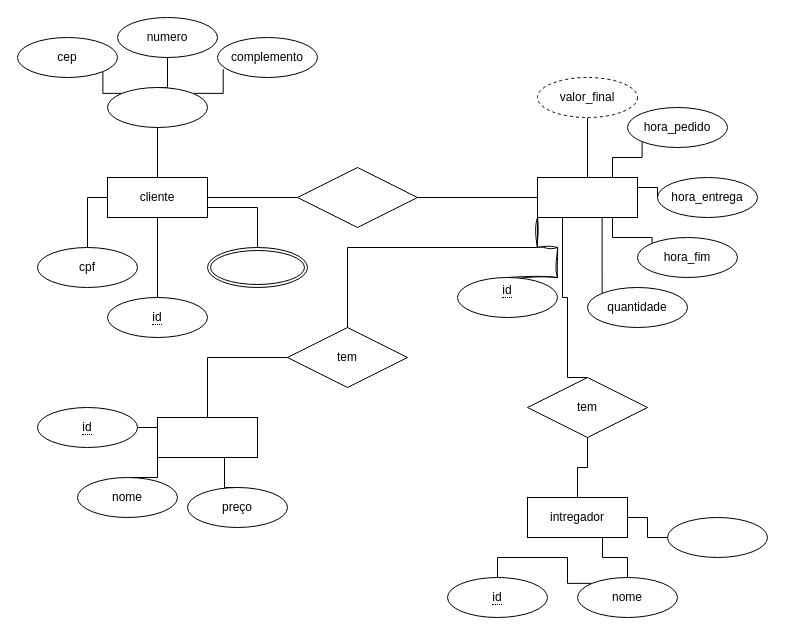
This 785x635 diagram has some shape labels left out. Each missing label, with the centre of its shape:
"endereço" belongs at point (157, 107).
"pedido" belongs at point (587, 197).
"possui" belongs at point (357, 197).
"produto" belongs at point (207, 437).
"telefone" belongs at point (257, 267).
"veiculo" belongs at point (717, 537).
